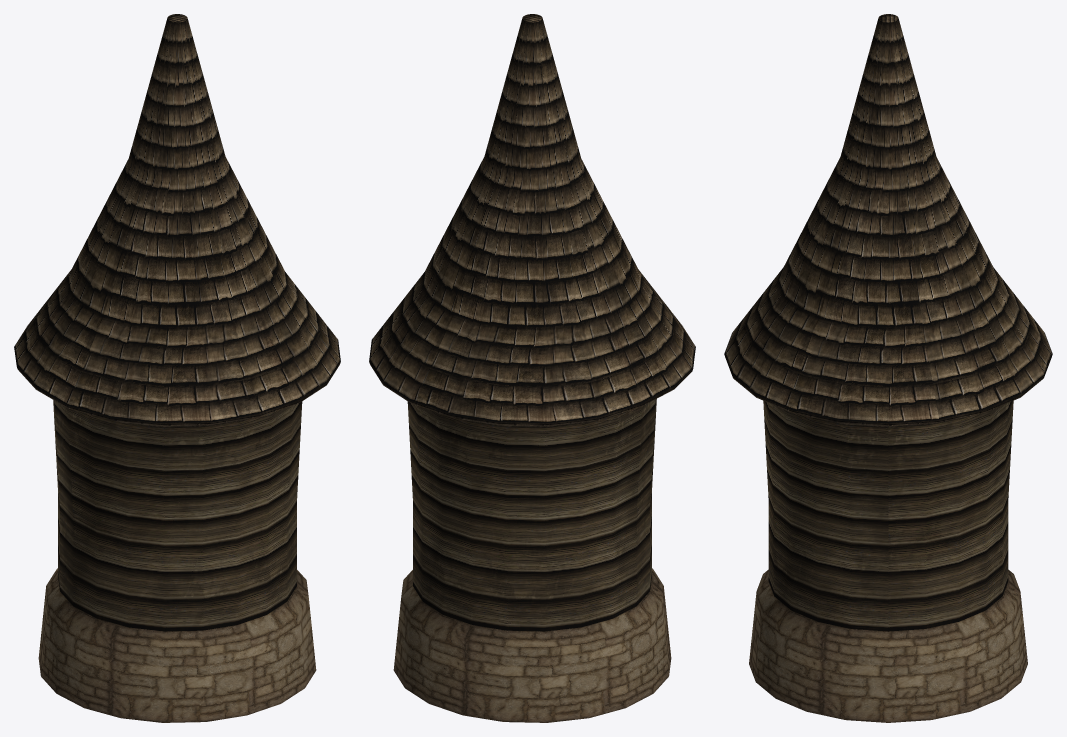
The model's file is Tower_03.fbx.
The picture shows the model from 3 angles, left to right: view 1: azimuth 30°, elevation 25°; view 2: azimuth 150°, elevation 25°; view 3: azimuth 270°, elevation 25°; orthographic projection.
Visible parts, largest first — view 1: Tower_03; view 2: Tower_03; view 3: Tower_03.
Part boxes in pixels (x1=…): Tower_03: x1=14, y1=14, x2=340, y2=722; Tower_03: x1=369, y1=14, x2=695, y2=722; Tower_03: x1=724, y1=14, x2=1052, y2=722.
Size of the model in its own units: 7.69 by 16.68 by 7.69.
